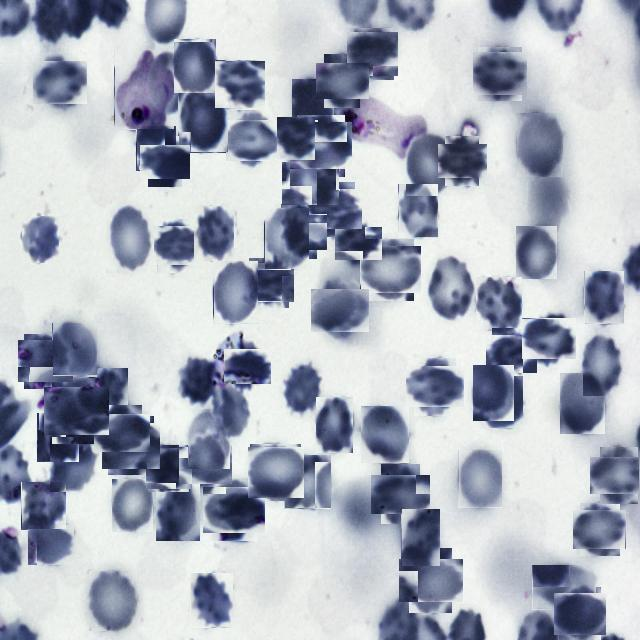red blood cell: (106, 202, 154, 272), (48, 382, 104, 440), (178, 90, 228, 153), (294, 118, 348, 174), (406, 134, 454, 196), (363, 242, 418, 296), (207, 482, 261, 537), (403, 554, 458, 608), (517, 113, 563, 177), (248, 446, 302, 500), (89, 571, 137, 631), (532, 565, 596, 610), (104, 419, 158, 472), (559, 372, 605, 434), (213, 261, 258, 324), (430, 256, 474, 320), (264, 208, 309, 270), (361, 406, 409, 463), (50, 437, 98, 492), (314, 285, 365, 336), (156, 482, 200, 541), (458, 450, 502, 508), (284, 455, 331, 509), (410, 362, 460, 412), (286, 158, 336, 208), (476, 277, 522, 331), (52, 322, 97, 377), (193, 206, 237, 262), (376, 469, 426, 518), (21, 337, 70, 386), (216, 60, 264, 110), (188, 411, 230, 468), (190, 573, 233, 628), (173, 39, 216, 94), (36, 59, 84, 108), (476, 50, 524, 99), (583, 335, 621, 396), (228, 116, 276, 164), (525, 315, 573, 363), (348, 30, 396, 78), (556, 590, 604, 638), (98, 409, 146, 457), (473, 365, 514, 421), (292, 79, 334, 133), (401, 509, 440, 567), (516, 224, 557, 278), (311, 186, 358, 233), (154, 222, 200, 270), (481, 376, 523, 428), (112, 479, 153, 532), (183, 441, 229, 488), (584, 270, 624, 324), (576, 507, 624, 552), (398, 184, 438, 238), (21, 482, 66, 530), (595, 452, 640, 500), (276, 208, 322, 254), (37, 413, 80, 462), (176, 355, 218, 405), (316, 397, 353, 453), (210, 384, 249, 437), (247, 260, 292, 305), (89, 368, 128, 419), (489, 332, 534, 376), (320, 58, 364, 103), (284, 363, 322, 414), (28, 522, 72, 566), (147, 446, 190, 491), (144, 140, 186, 183), (136, 126, 176, 171), (441, 140, 483, 182), (226, 345, 268, 387), (22, 215, 59, 262), (276, 119, 316, 160), (338, 224, 378, 264)
trophozoite: (340, 95, 426, 157), (114, 50, 174, 130)
